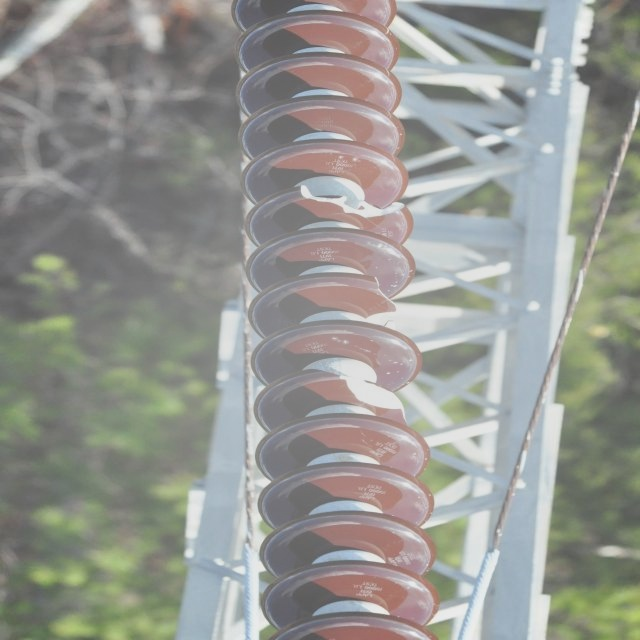broken: (317, 368, 414, 426), (298, 184, 412, 217)
insulator: (227, 0, 443, 637)
